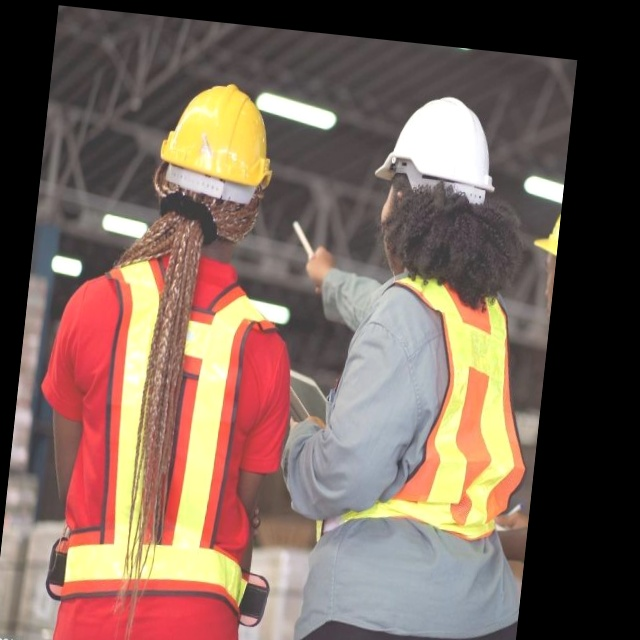Con_Casco: (365, 85, 502, 282), (153, 77, 281, 253)
Con_Chaleco: (51, 252, 286, 617), (329, 267, 538, 551)
